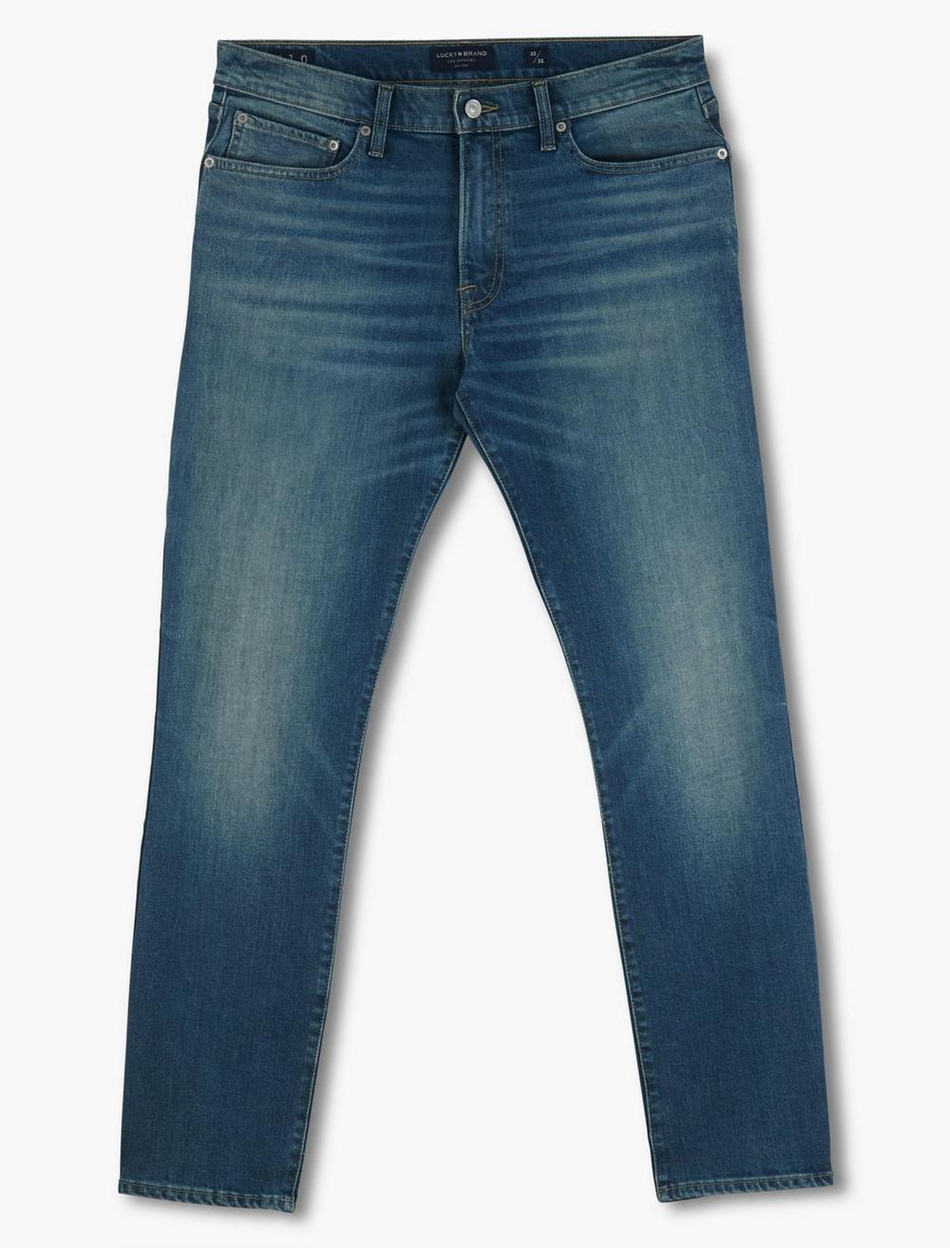Jeans: (105, 21, 853, 1220)
